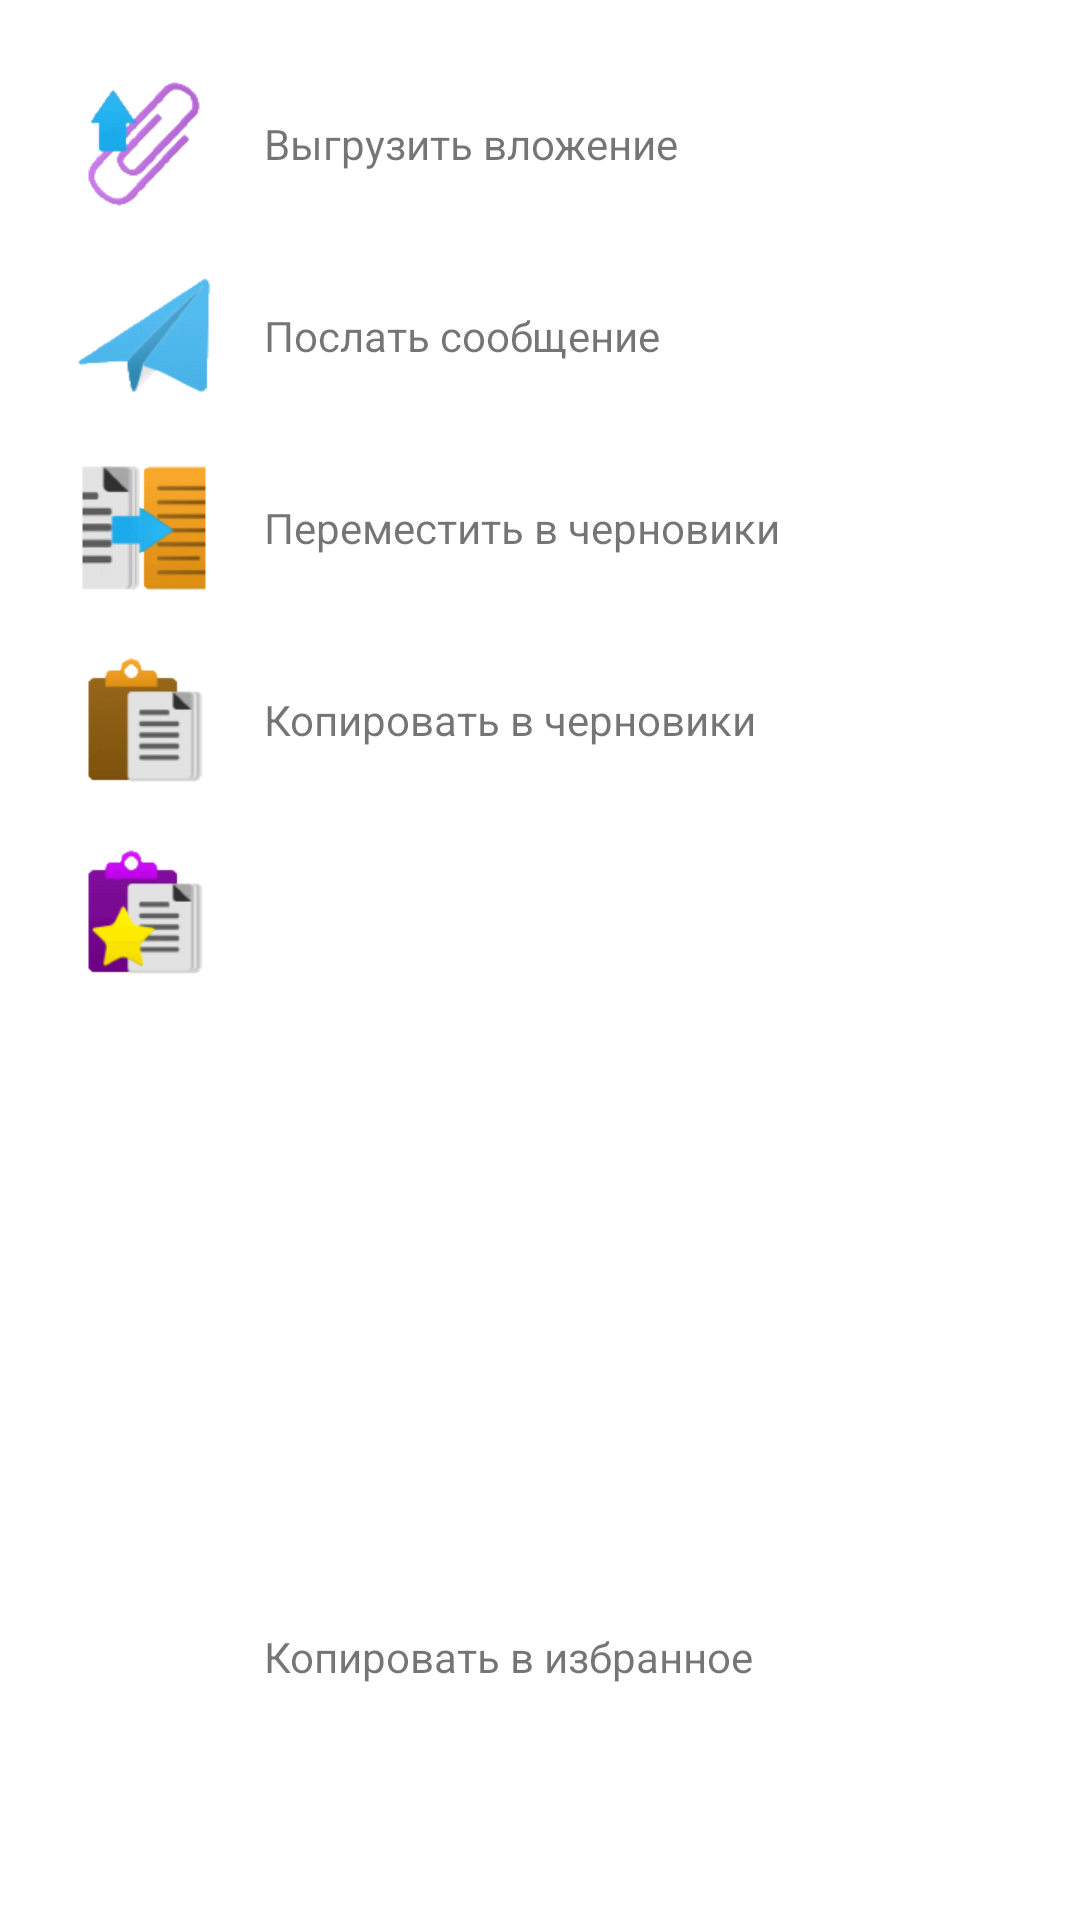

Icons on this 1080w x 1920h Android screen, each with the point to tap as (x=x, y=y):
message att export: (x=129, y=126)
